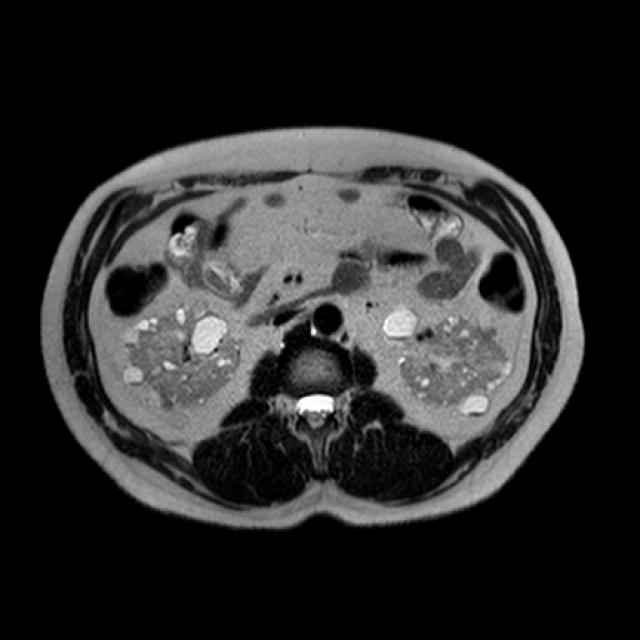sag: (120, 299, 243, 413)
sol: (381, 306, 514, 417)
